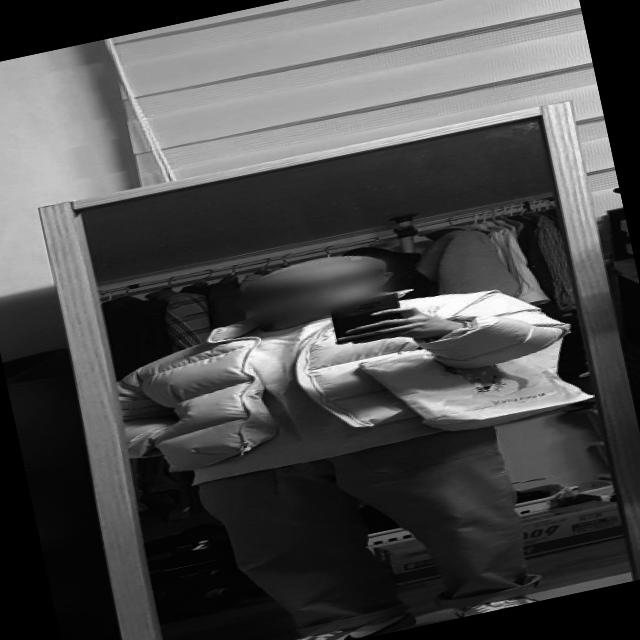cottonpants: (194, 409, 536, 640)
padding: (109, 271, 584, 507)
